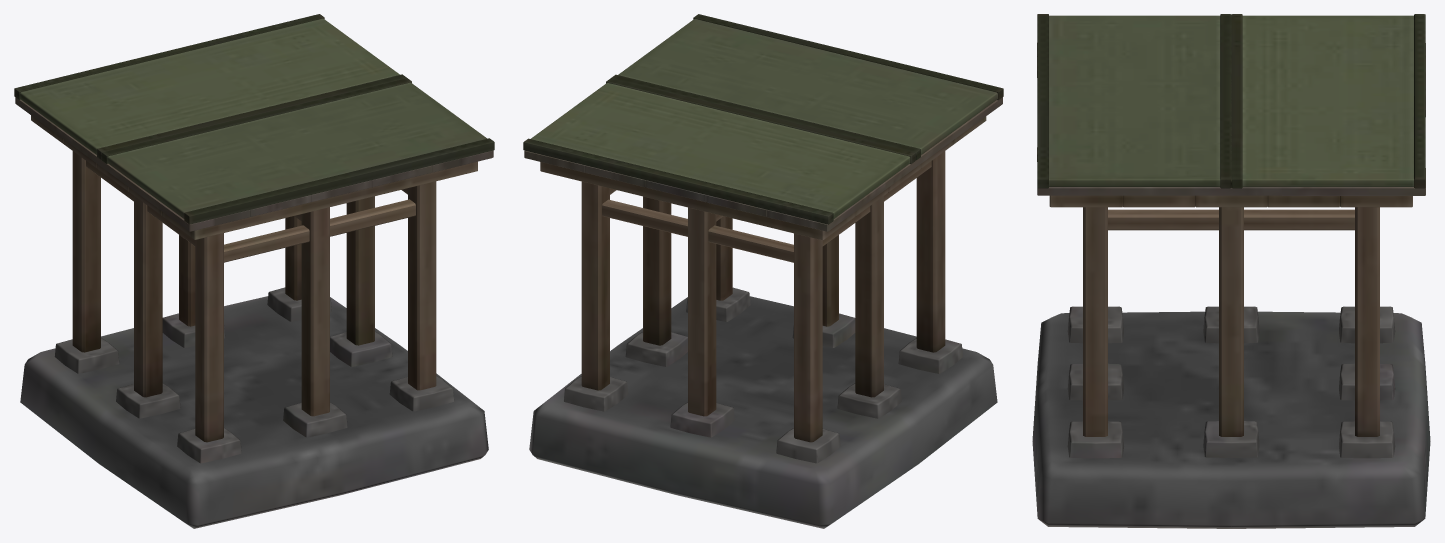
File: Architecture_JapaneseStyle_Floor_2f548e.glb
The picture shows the model from 3 angles, left to right: view 1: azimuth 30°, elevation 25°; view 2: azimuth 150°, elevation 25°; view 3: azimuth 270°, elevation 25°; orthographic projection. The views are drawn at different scales.
Bounding box in the file's own units: 4.1 × 4.01 × 4.1.
1 material, 1 textured.
